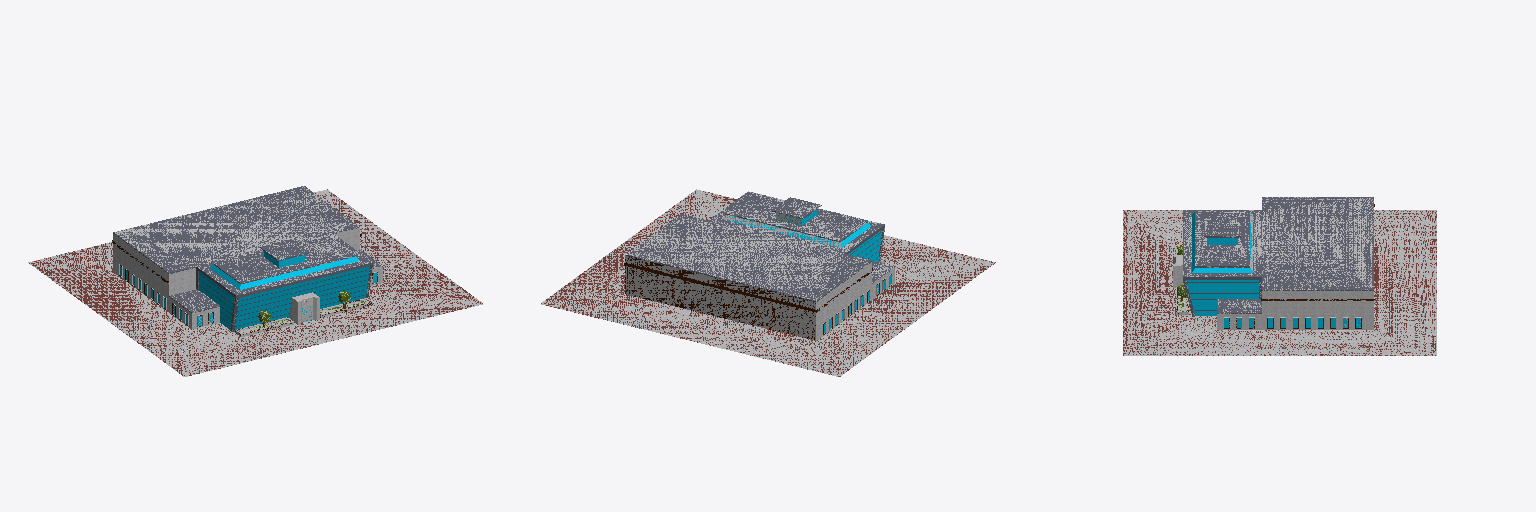
3 views of the same model, side by side, from view 1: azimuth 30°, elevation 25°; view 2: azimuth 150°, elevation 25°; view 3: azimuth 270°, elevation 25° (orthographic).
Parts seen in each view (by area): view 1: Mesh1 Model; view 2: Mesh1 Model; view 3: Mesh1 Model.
Boxes of the visible parts, x1=… form: Mesh1 Model: x1=28, y1=186, x2=482, y2=376; Mesh1 Model: x1=541, y1=189, x2=995, y2=376; Mesh1 Model: x1=1123, y1=197, x2=1436, y2=355.
Bounding box in the file's own units: 55.15 × 9.6 × 50.
Materials: 10 (3 with a texture image).